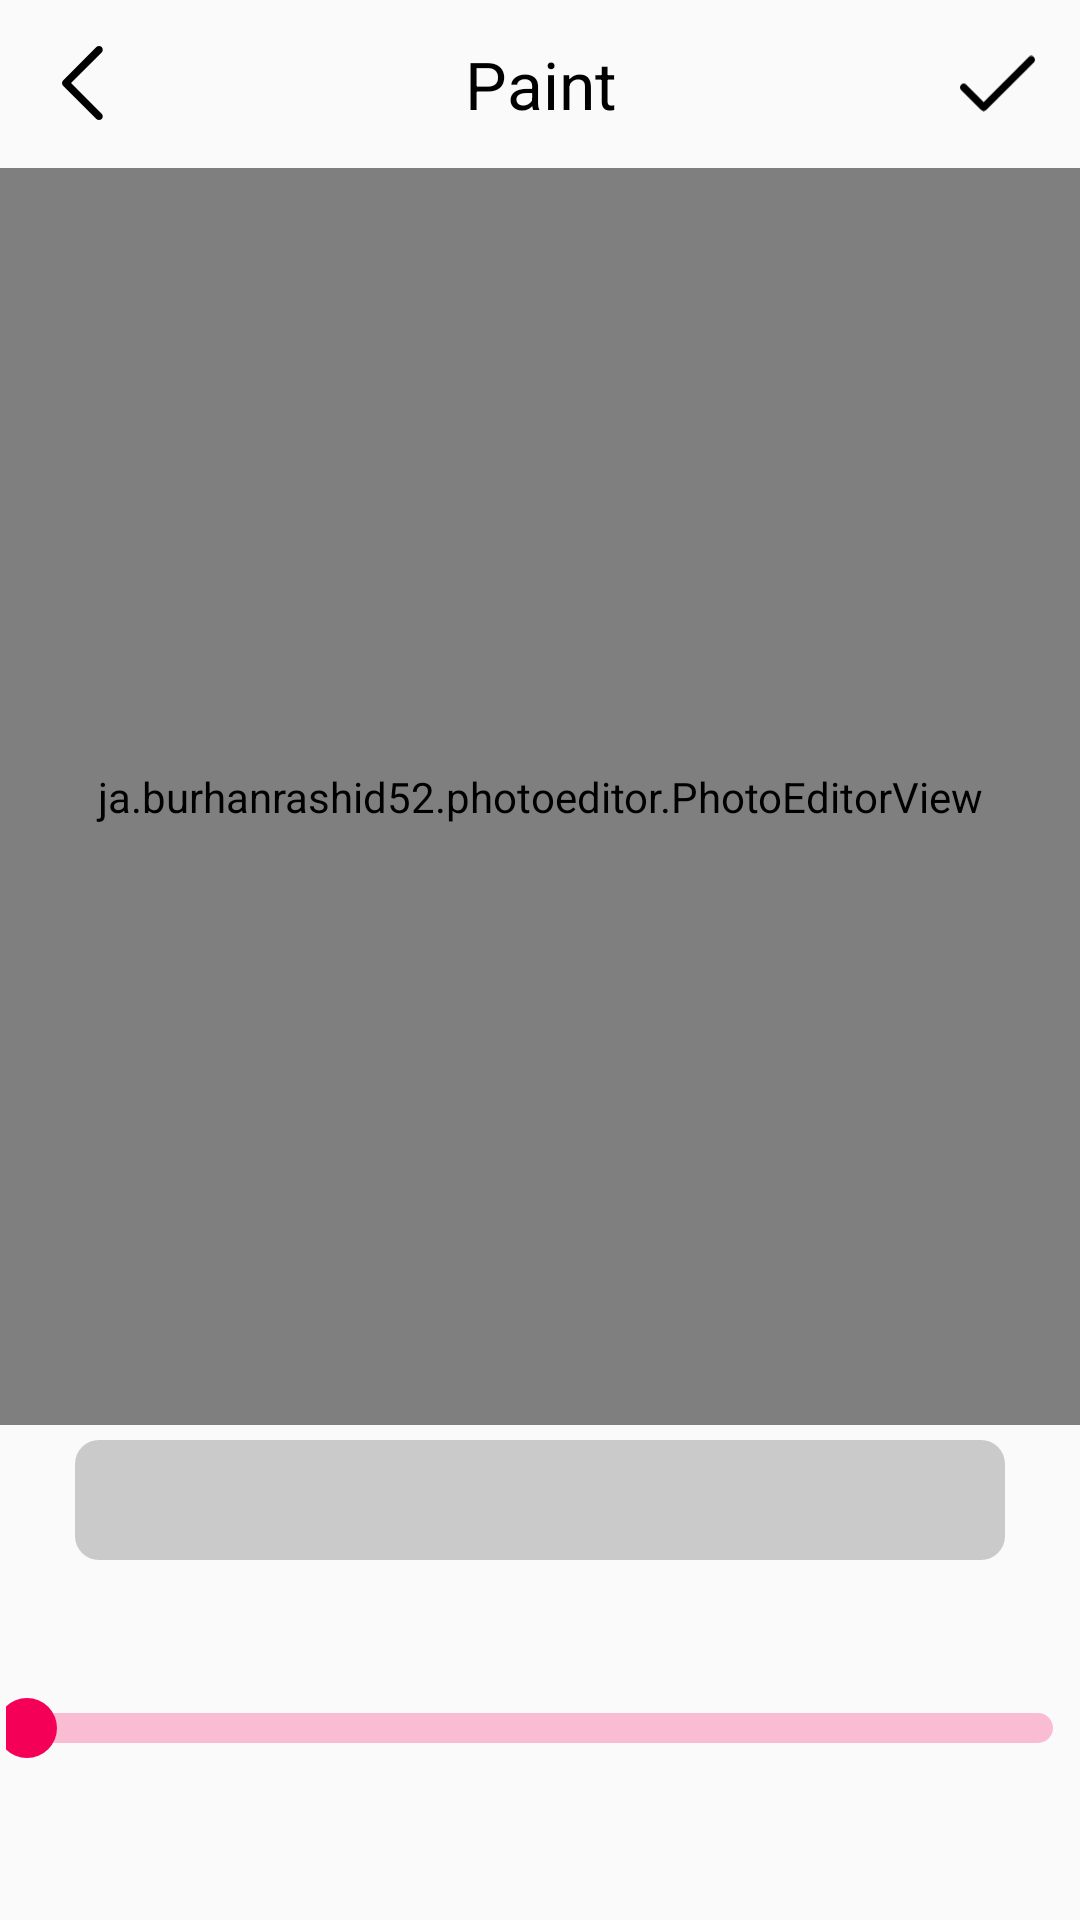

Screen size 1080x1920. Icon name, then its center in pixels as point (x, y):
back: point (82, 83)
save: point (997, 83)
